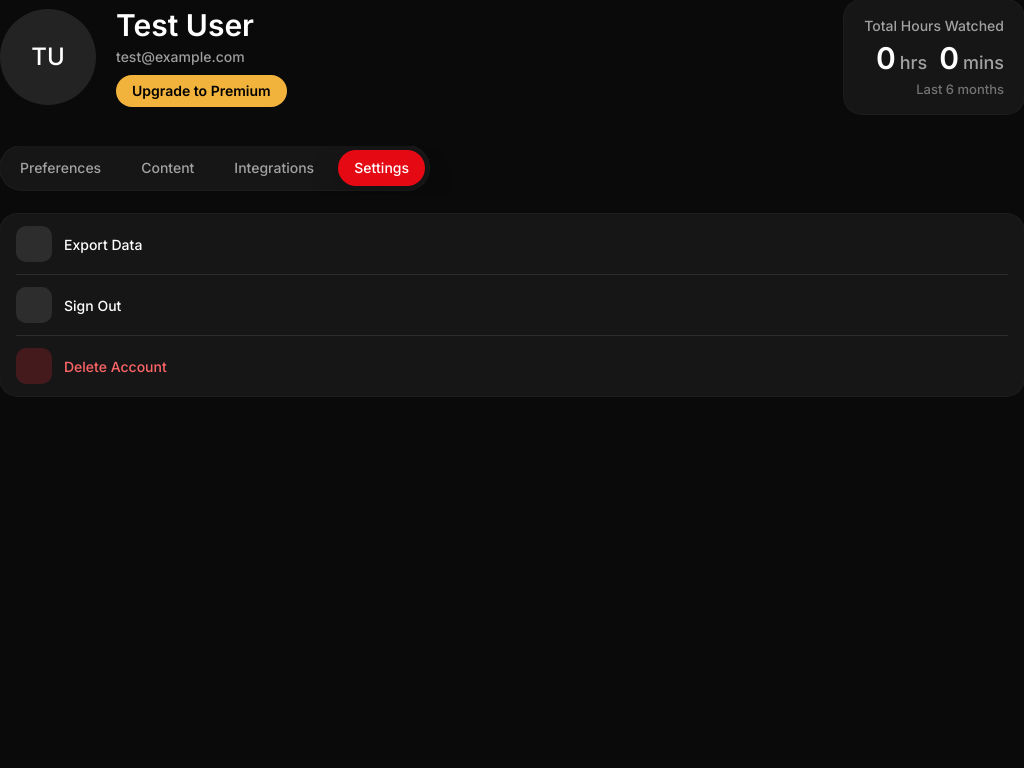
Test: ProfilePageClient delete account › requires the account email before enabling deletion
Click the button "Delete Account": x=34, y=366 left=0, top=336, right=1023, bottom=396
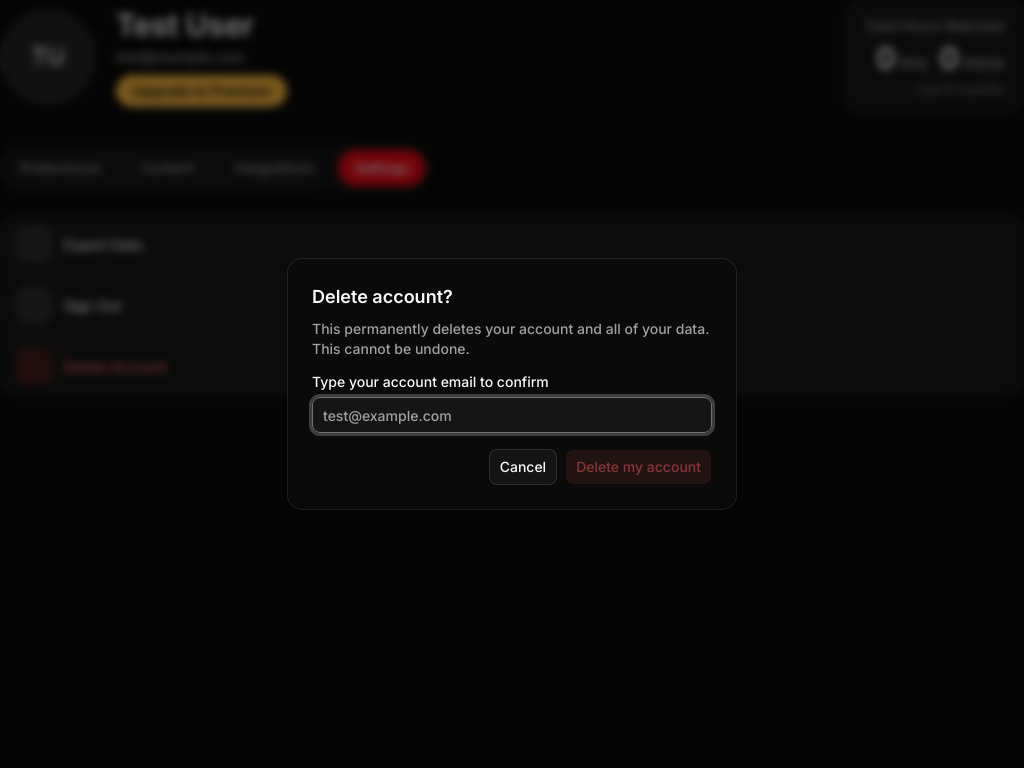
Result: the button "Delete my account" is disabled at left=565, top=449, right=712, bottom=485
In the field labelled "Type your account email to confirm": x=512, y=415 left=312, top=397, right=712, bottom=433, type "wrong@example.com"
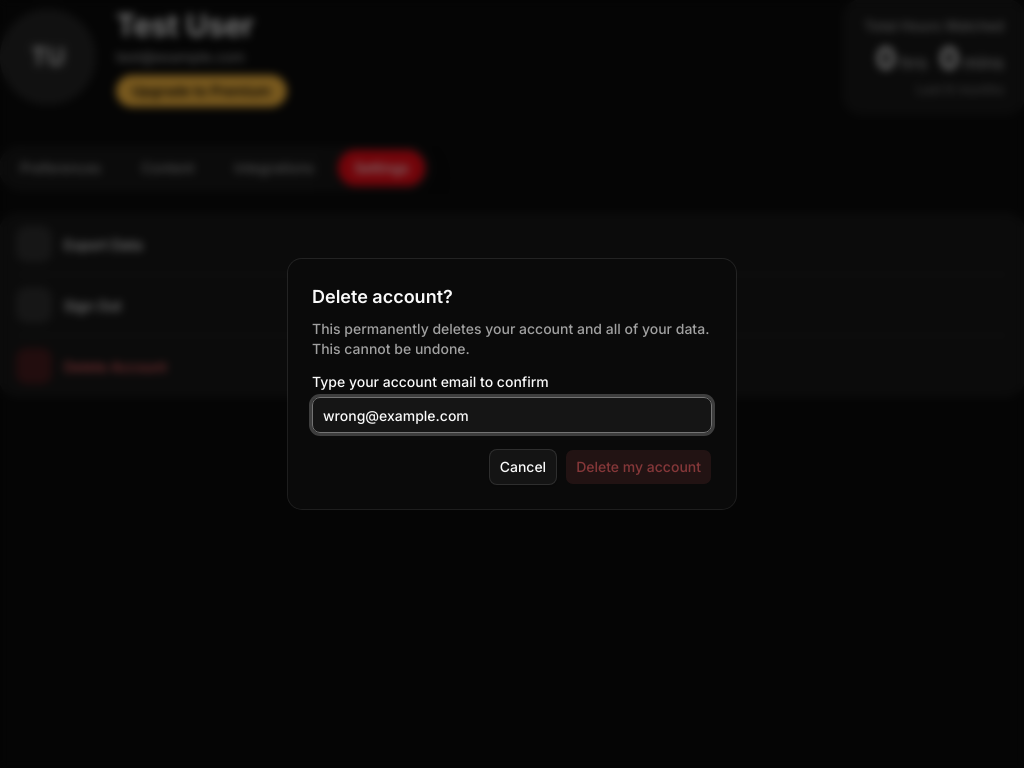
Result: the button "Delete my account" is disabled at left=565, top=449, right=712, bottom=485
Replace the text in the field labelled "Type your account email to confirm" with "test@example.com": x=512, y=415 left=312, top=397, right=712, bottom=433
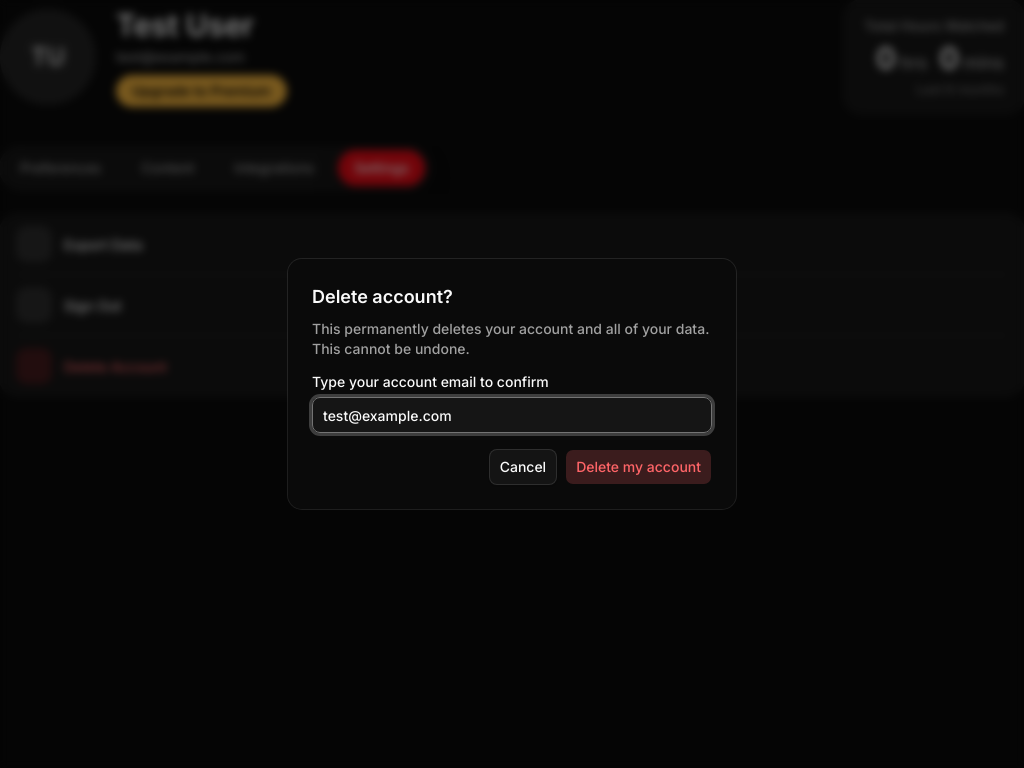
Result: the button "Delete my account" is enabled at left=565, top=449, right=712, bottom=485
